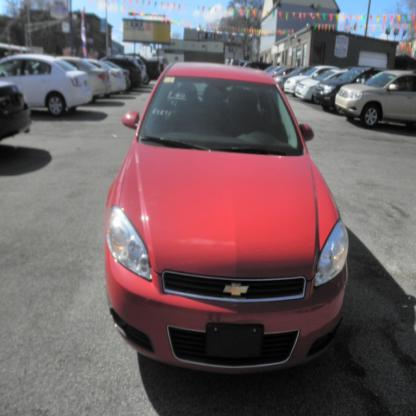Vehicle: (100, 58, 364, 377)
